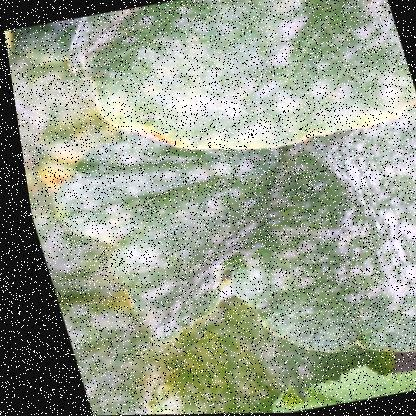PowderyMildew: (98, 0, 396, 149), (272, 130, 415, 328), (88, 151, 265, 279)
